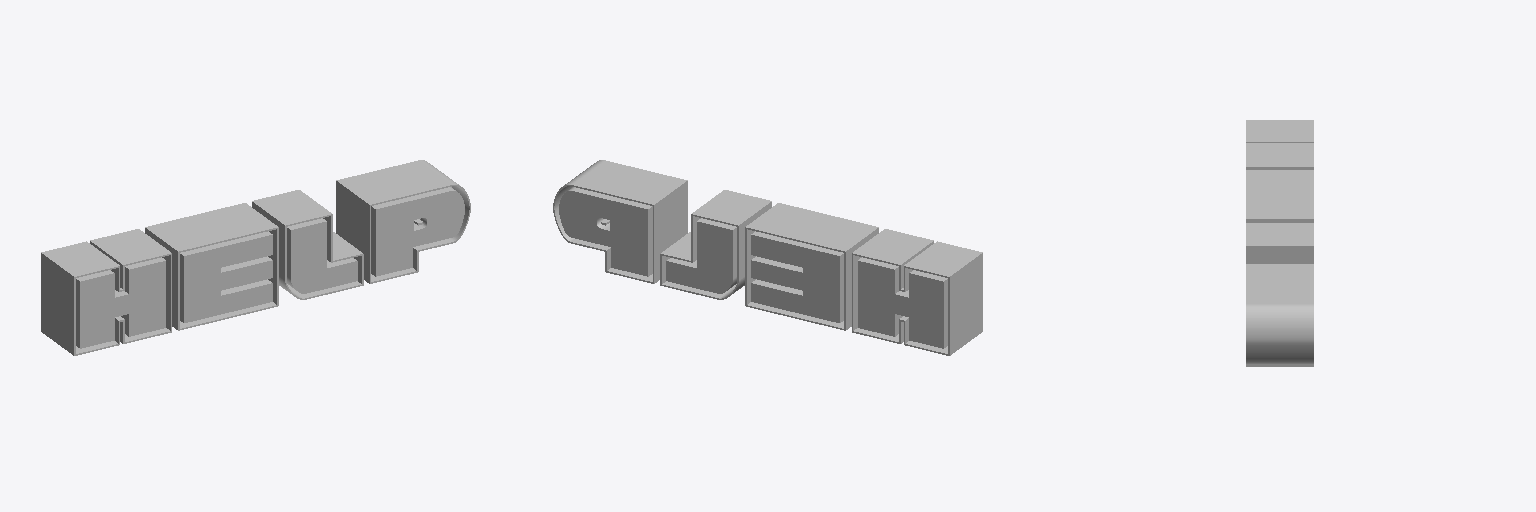
File: help.obj
3 renders of one model, left to right at view 1: azimuth 30°, elevation 25°; view 2: azimuth 150°, elevation 25°; view 3: azimuth 270°, elevation 25°, orthographic.
Parts seen in each view (by area): view 1: Texto; view 2: Texto; view 3: Texto.
Part boxes in pixels (left/top/right/bottom): Texto: left=41, top=160, right=470, bottom=355; Texto: left=553, top=160, right=982, bottom=355; Texto: left=1246, top=120, right=1313, bottom=366.
Size of the model in its own units: 40.98 by 7.82 by 6.